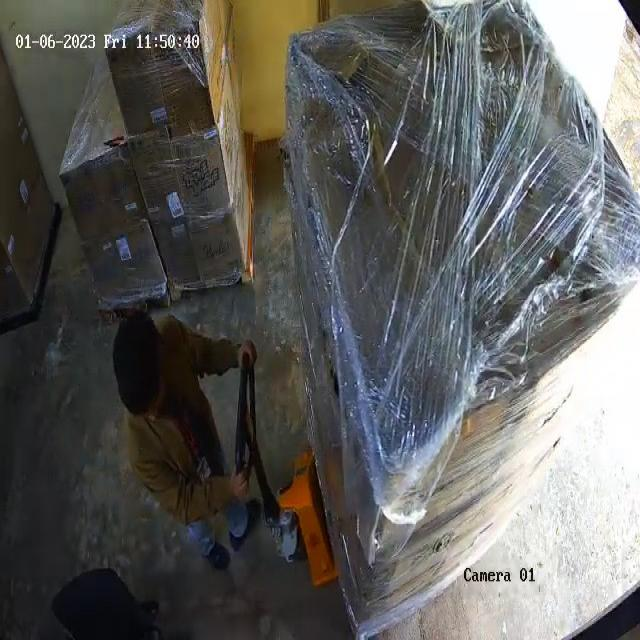leakage: (321, 352, 341, 414), (417, 532, 449, 568)
